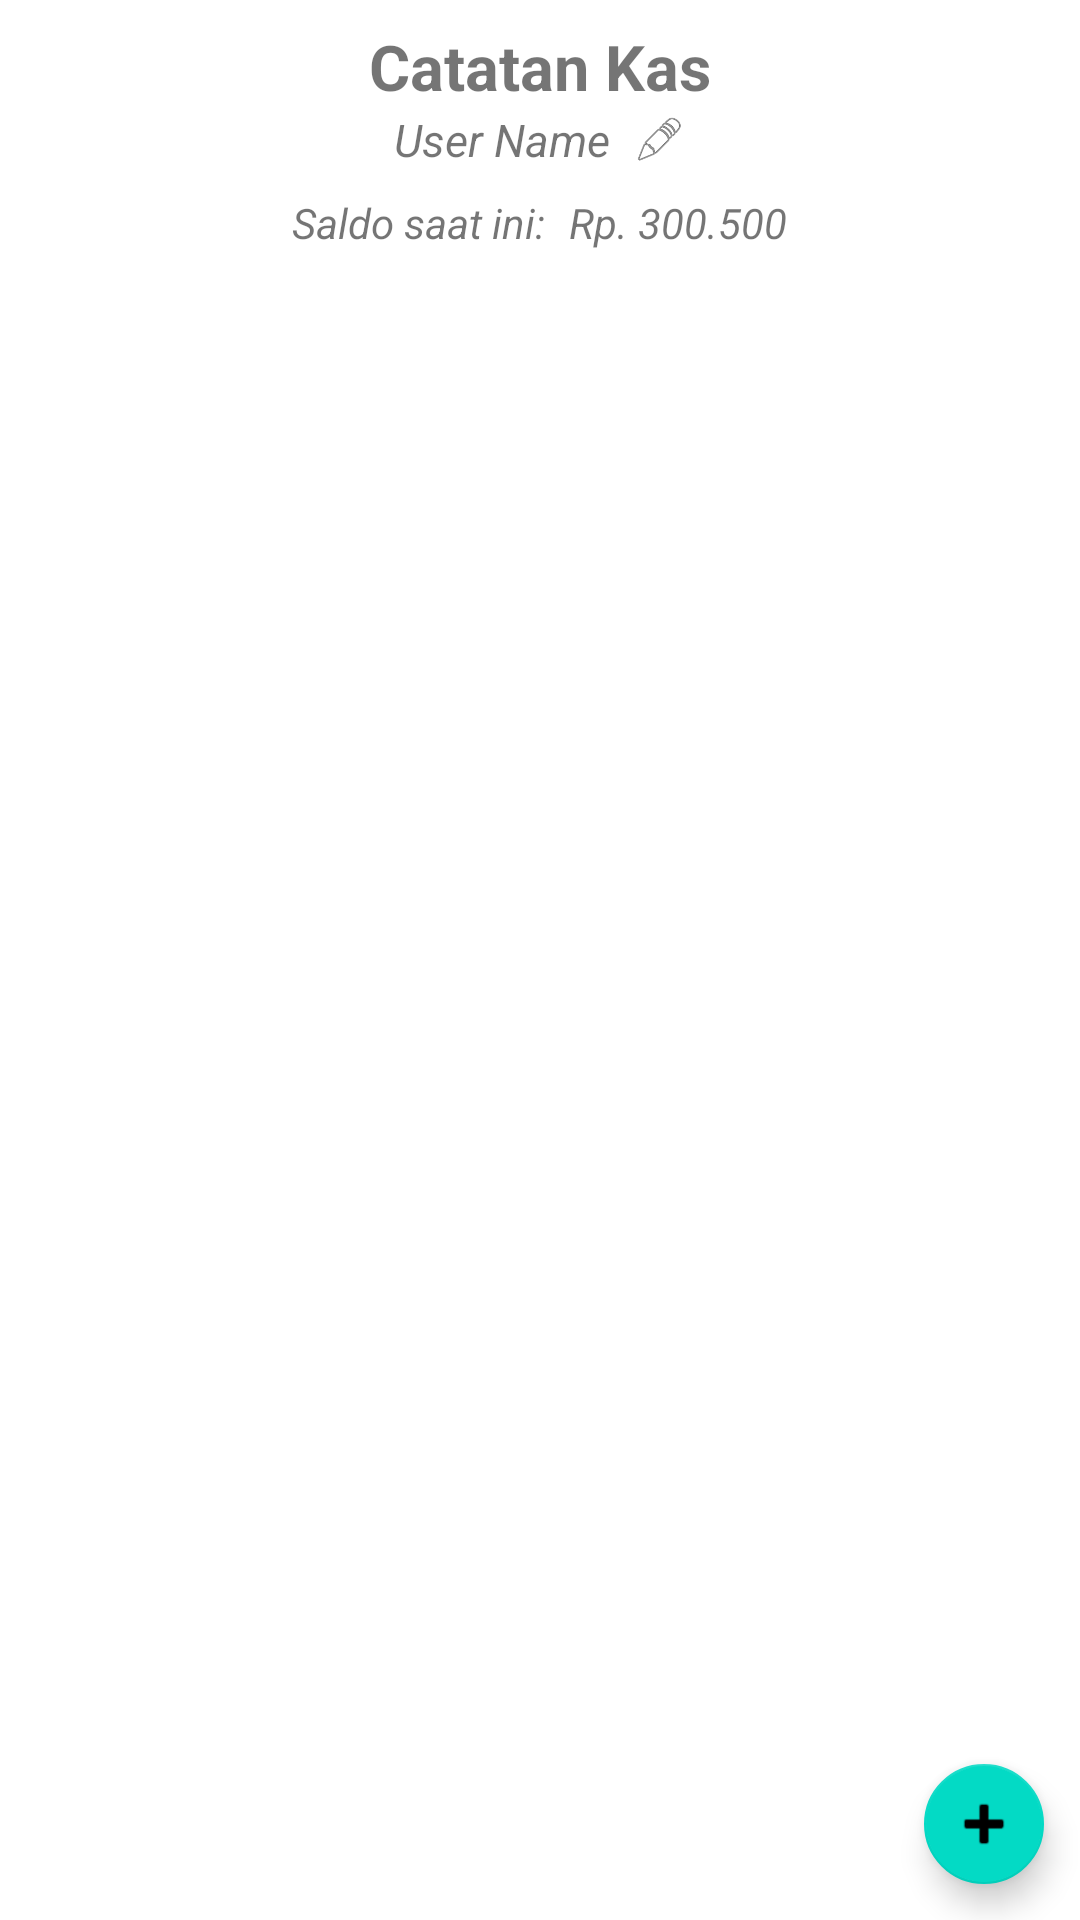

Icon click points for this 1080x1920 phone screenshot, format (x=x, y=y):
add: (x=985, y=1830)
edit: (x=659, y=139)
